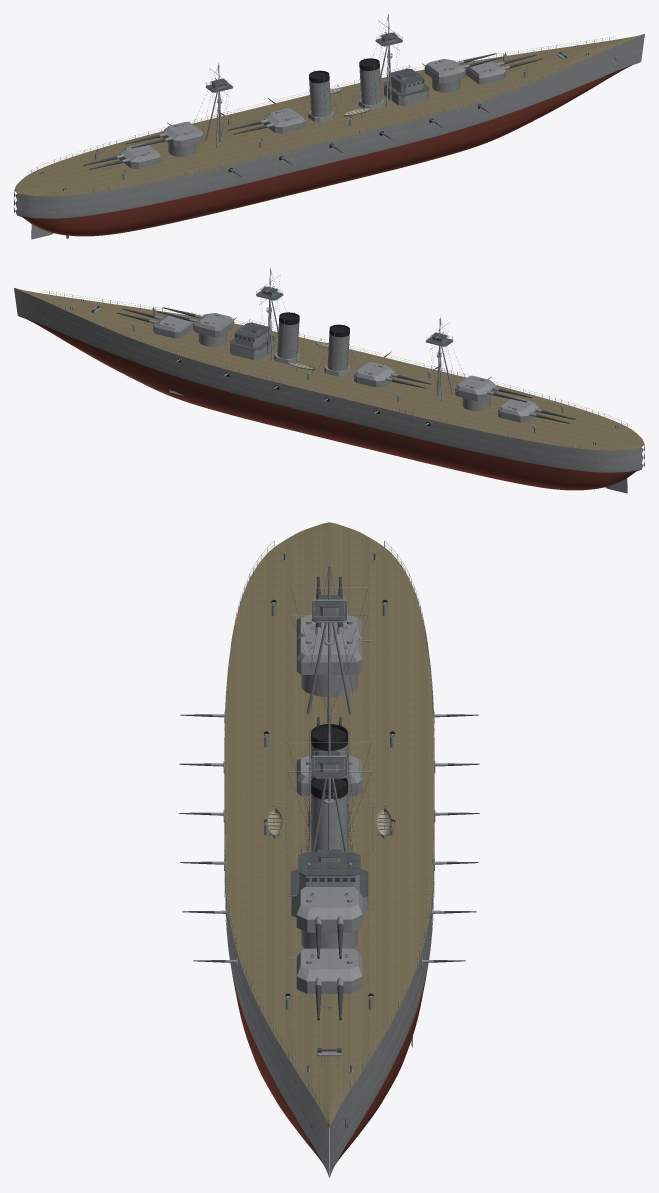
File: iron_duke.glb
The picture shows the model from 3 angles, top to bottom: view 1: azimuth 30°, elevation 25°; view 2: azimuth 150°, elevation 25°; view 3: azimuth 270°, elevation 25°; orthographic projection. The views are drawn at different scales.
Parts seen in each view (by area): view 1: Iron Duke class; view 2: Iron Duke class; view 3: Iron Duke class.
Part boxes in pixels (x1,y1,x2,y2): Iron Duke class: [14, 14, 644, 239]; Iron Duke class: [14, 268, 644, 493]; Iron Duke class: [179, 522, 479, 1177].
Bounding box in the file's own units: 190 × 40.42 × 39.26.
9 materials, 8 textured.
